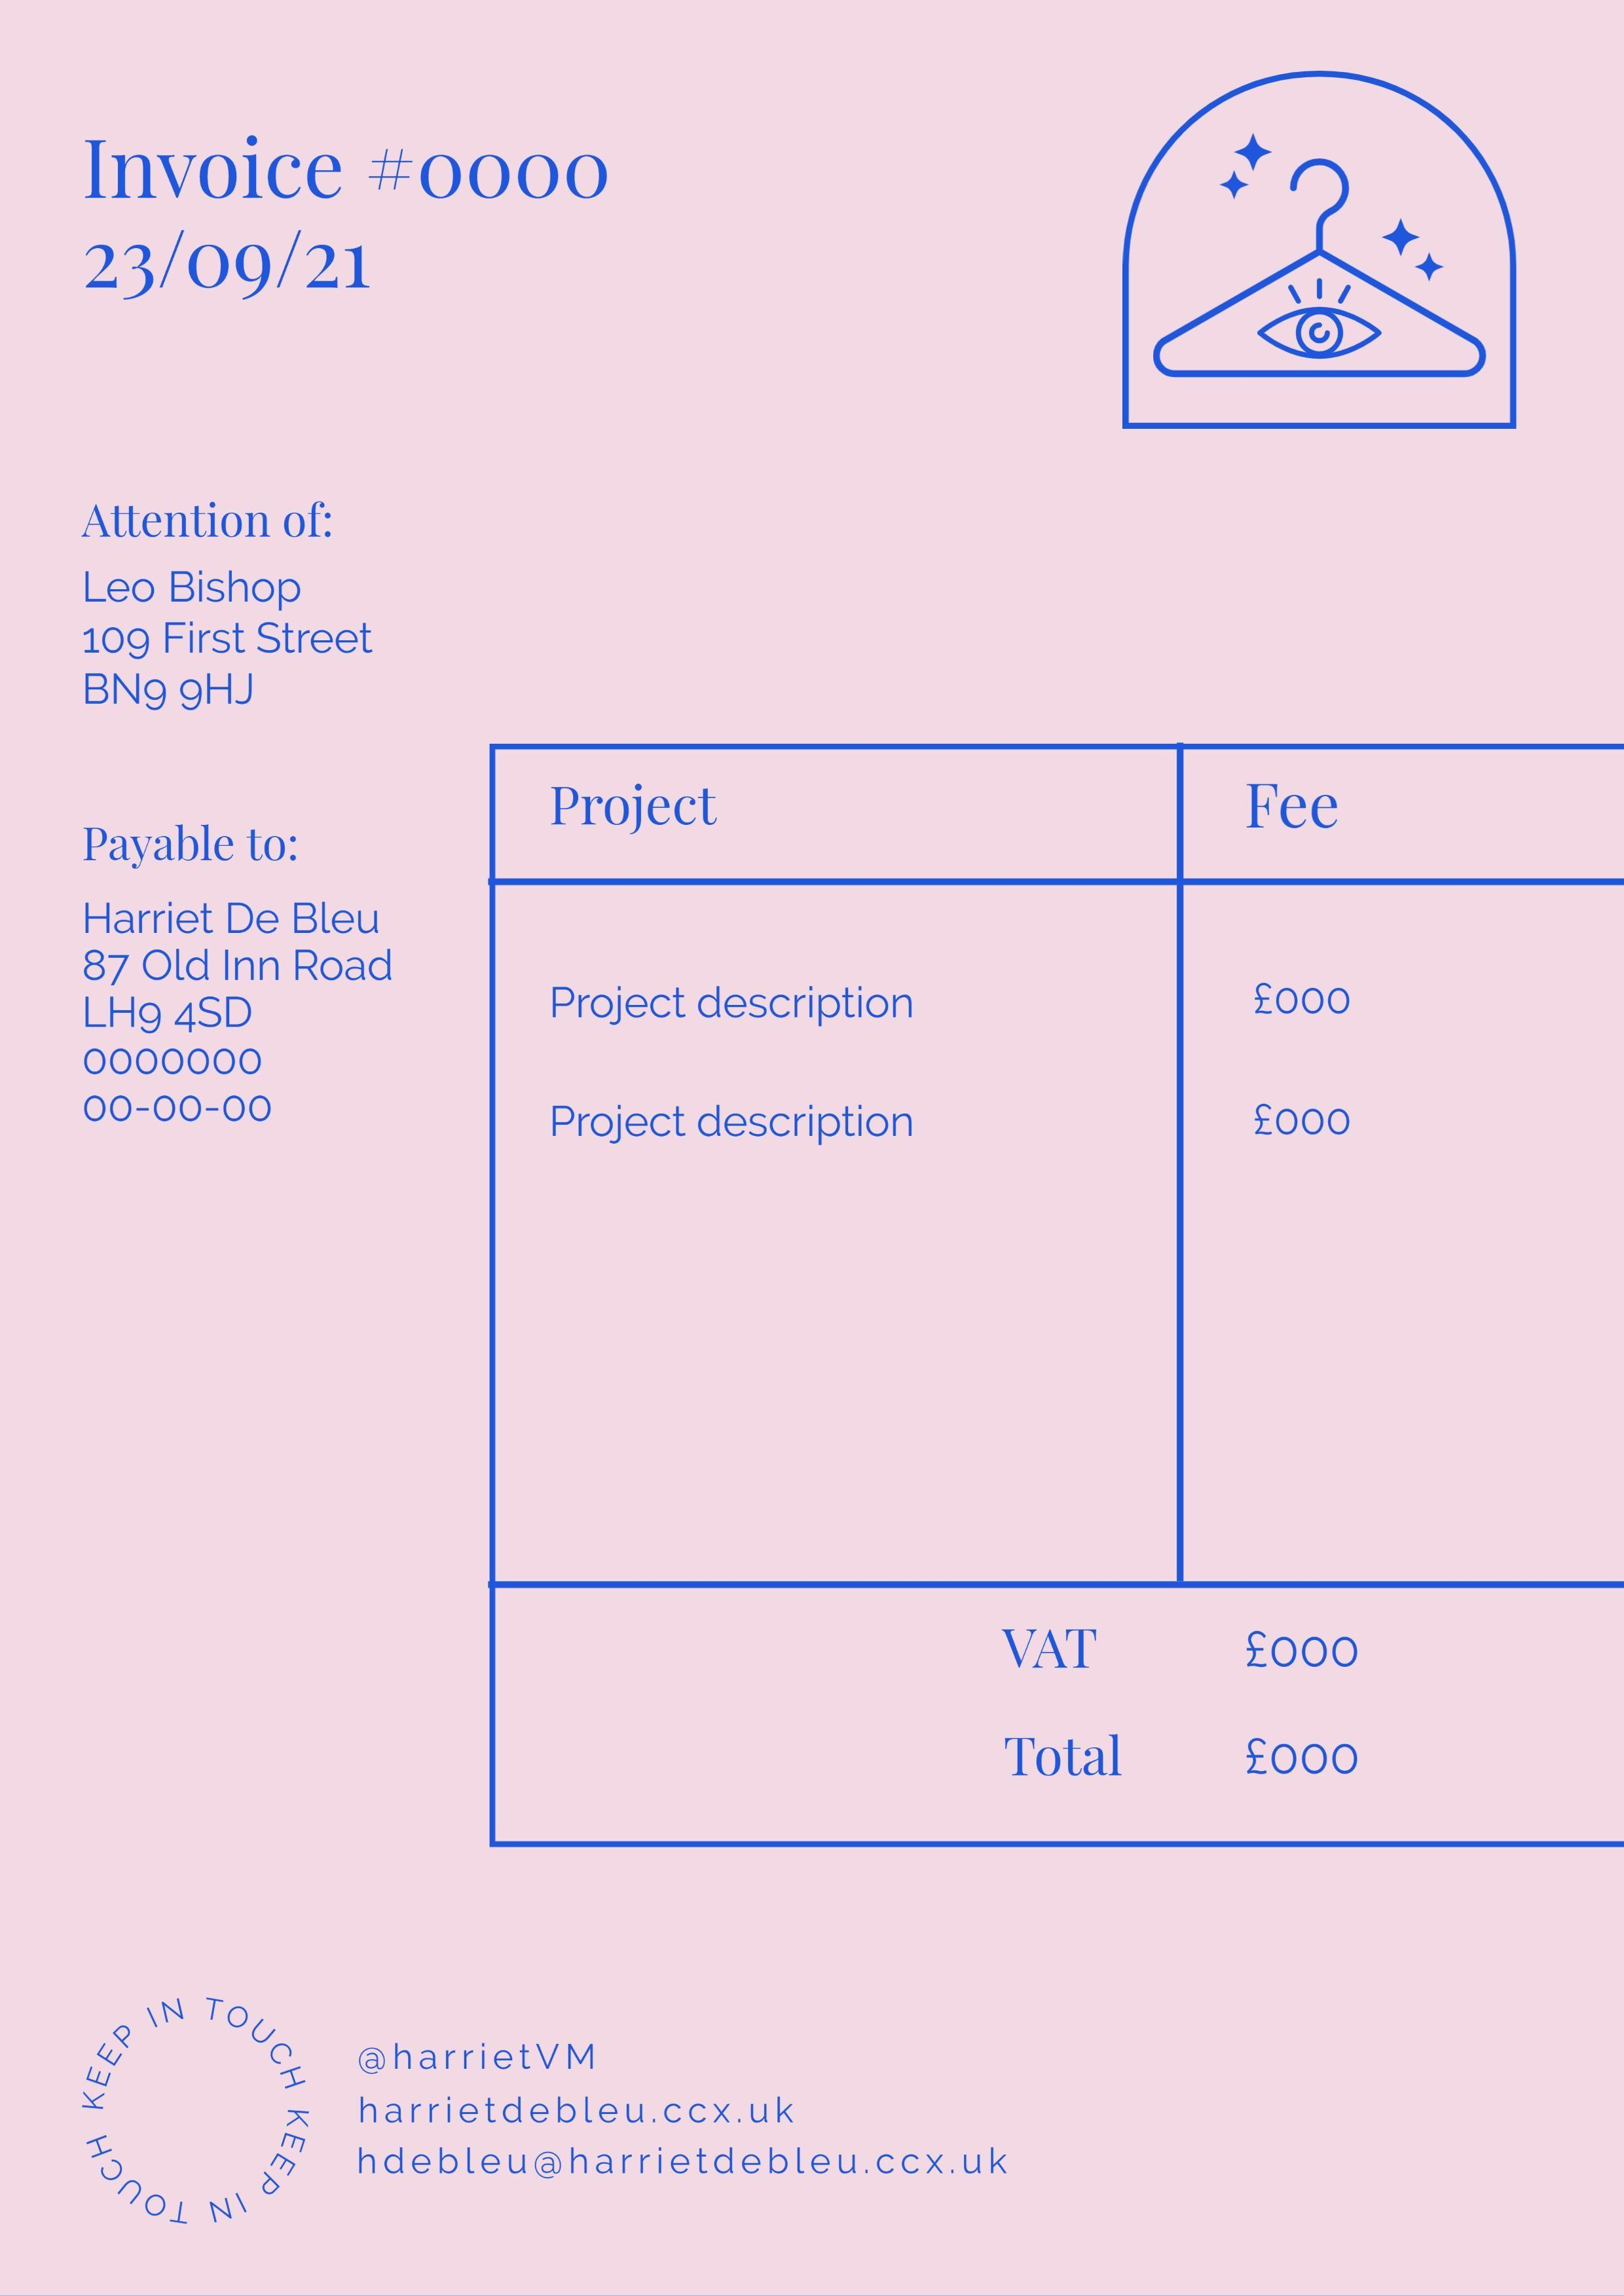ROI: (476, 726, 1612, 1539), (65, 1983, 1021, 2243), (49, 116, 643, 339), (74, 801, 408, 1131), (984, 1613, 1417, 1804)
